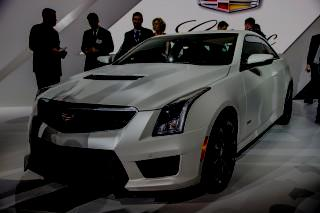cadillac: (55, 109, 81, 125)
